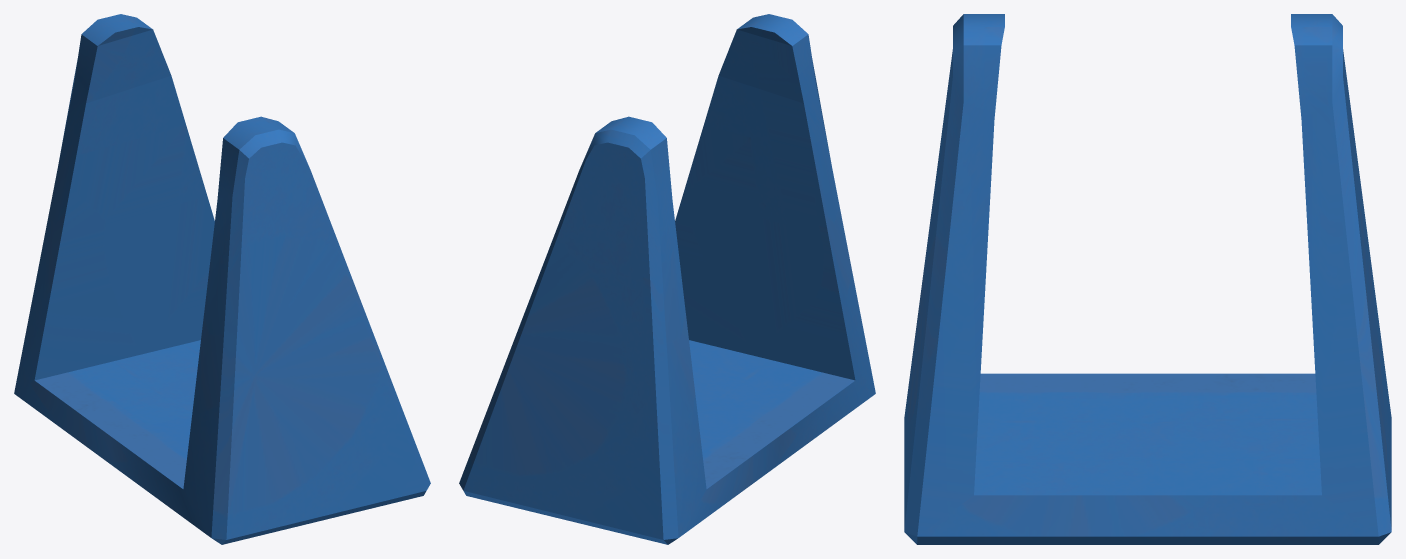
File: ball_shooter_base.dae
The picture shows the model from 3 angles, left to right: view 1: azimuth 30°, elevation 25°; view 2: azimuth 150°, elevation 25°; view 3: azimuth 270°, elevation 25°; orthographic projection. The views are drawn at different scales.
Visible parts, largest first — view 1: Base; view 2: Base; view 3: Base.
Part boxes in pixels (x1,y1,x2,y2): Base: [14, 14, 430, 544]; Base: [459, 14, 875, 544]; Base: [904, 14, 1391, 544].
Size of the model in its own units: 74.13 by 120 by 121.
1 material, 1 textured.
